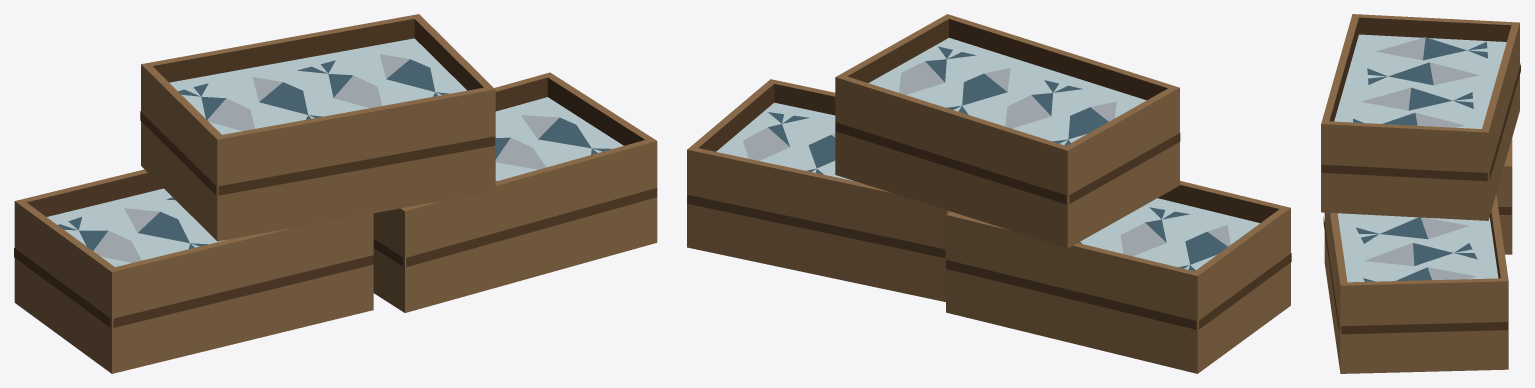
The model's file is fish_crates.glb.
3 renders of one model, left to right at view 1: azimuth 30°, elevation 25°; view 2: azimuth 150°, elevation 25°; view 3: azimuth 270°, elevation 25°, orthographic. The views are drawn at different scales.
Visible parts, largest first — view 1: Crates; view 2: Crates; view 3: Crates.
Boxes of the visible parts, x1=… form: Crates: x1=14, y1=14, x2=657, y2=373; Crates: x1=687, y1=14, x2=1291, y2=373; Crates: x1=1321, y1=14, x2=1520, y2=373.
Bounding box in the file's own units: 1.46 × 0.52 × 0.536.
Materials: 1 (1 with a texture image).
